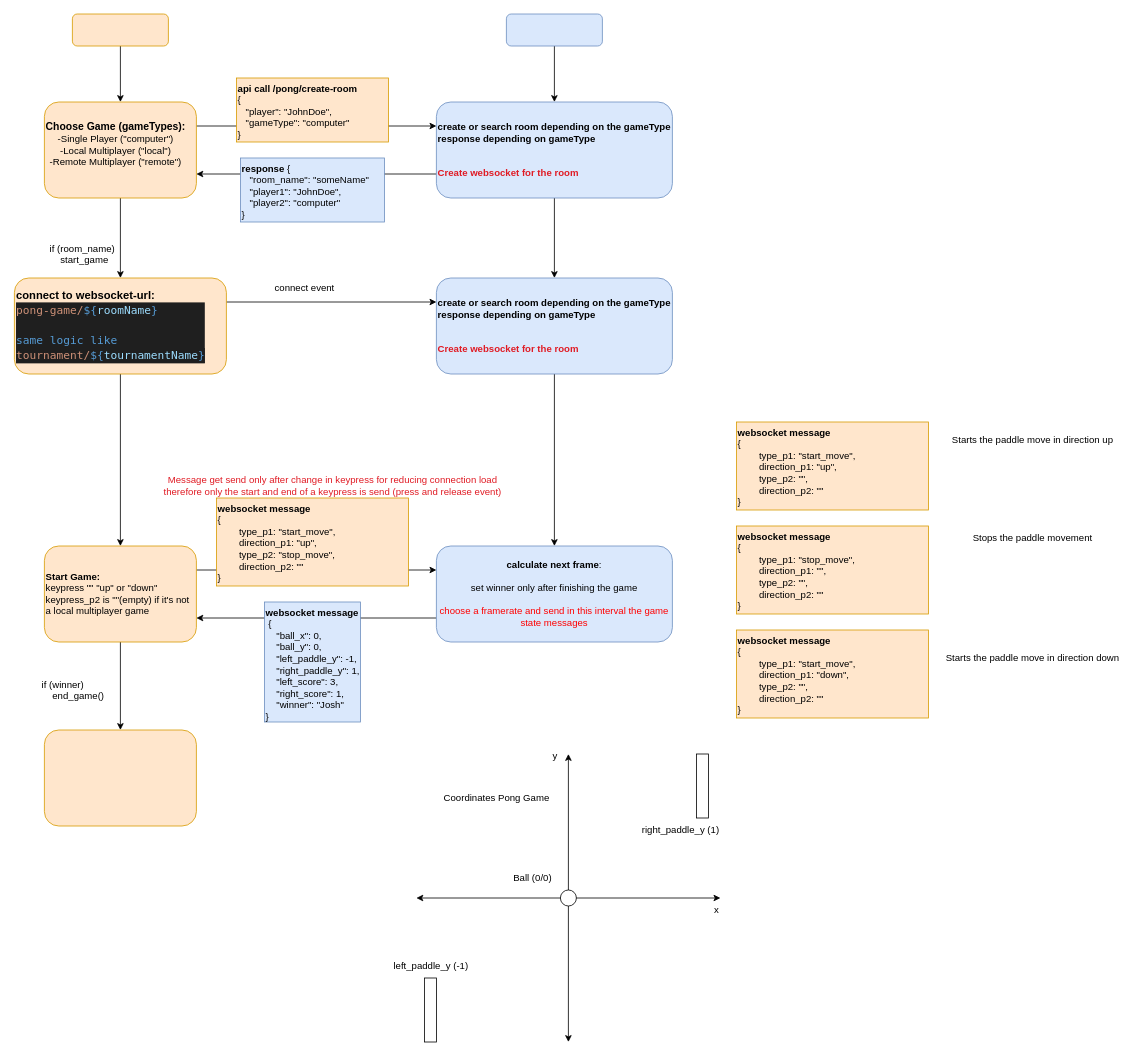
This 1142x1062 diagram has some shape labels left out. Each missing label, with the centre of its shape:
"Client" goes at (x=120, y=29).
"Display Winner" goes at (x=120, y=777).
"Server" goes at (x=554, y=29).
